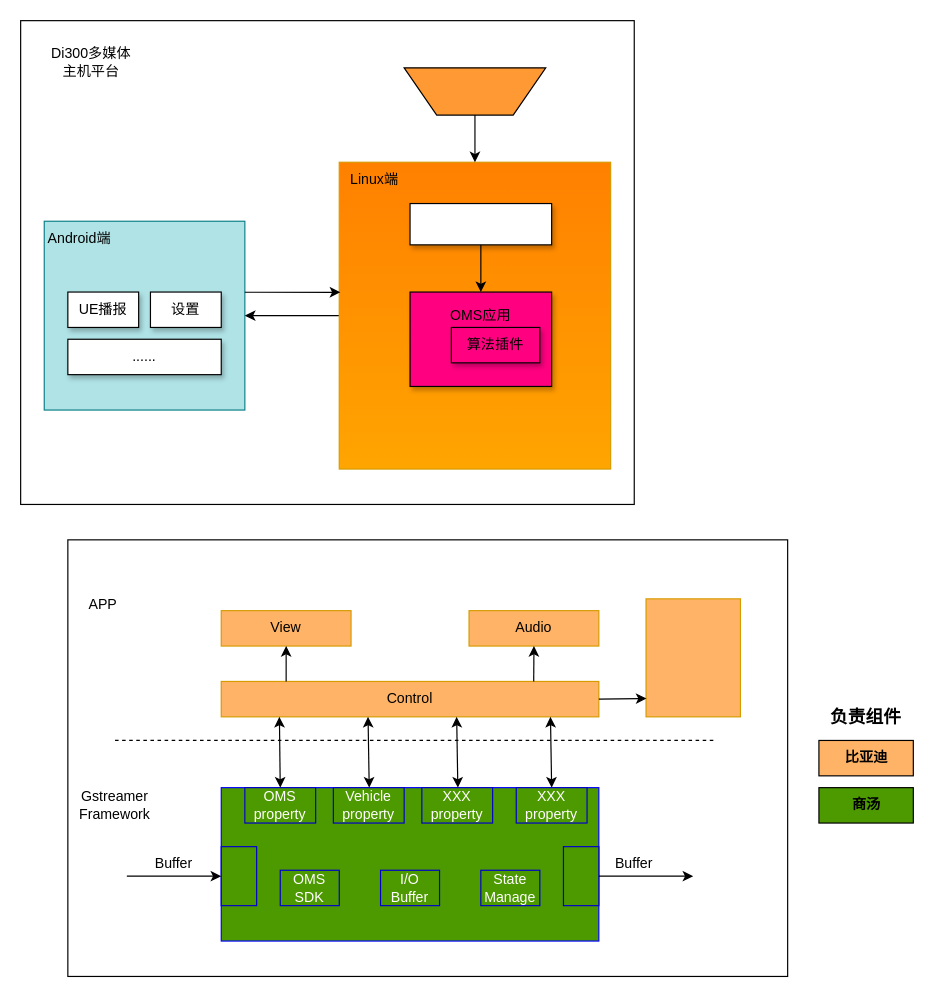
This 942x997 diagram has some shape labels left out. The shapes that lost their labels are listed below. From the top down, each one's centre as x and y in pixels, then its label:
At pixel 474 91: "OMS摄像头".
At pixel 481 225: "影像系统".
At pixel 692 657: "CAN".
At pixel 238 875: "sink pad".
At pixel 580 875: "src pad".
